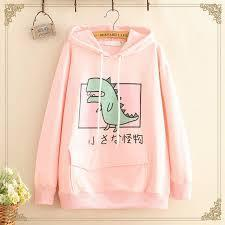sweater: (32, 25, 189, 207)
